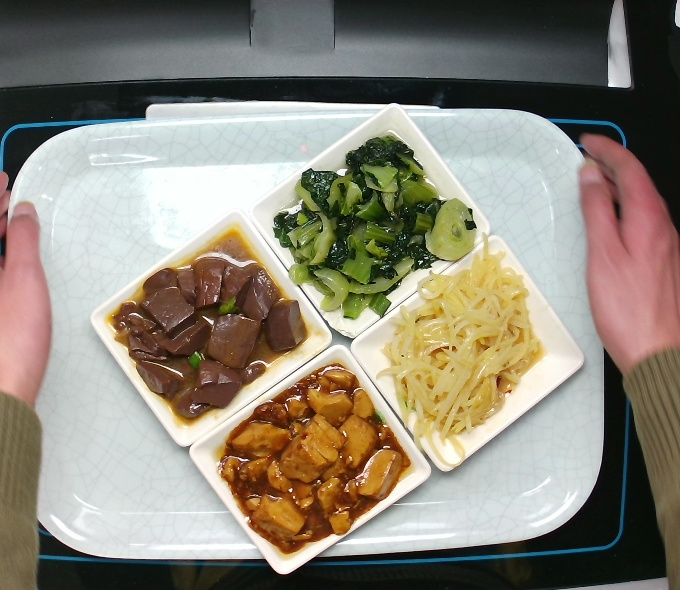wcq-MaPoDouFu: (219, 366, 413, 552)
wcq-NiuXue: (111, 235, 305, 421)
wcq-TuDouSi: (373, 257, 565, 451)
wcq-YouDongCai: (275, 133, 469, 319)
